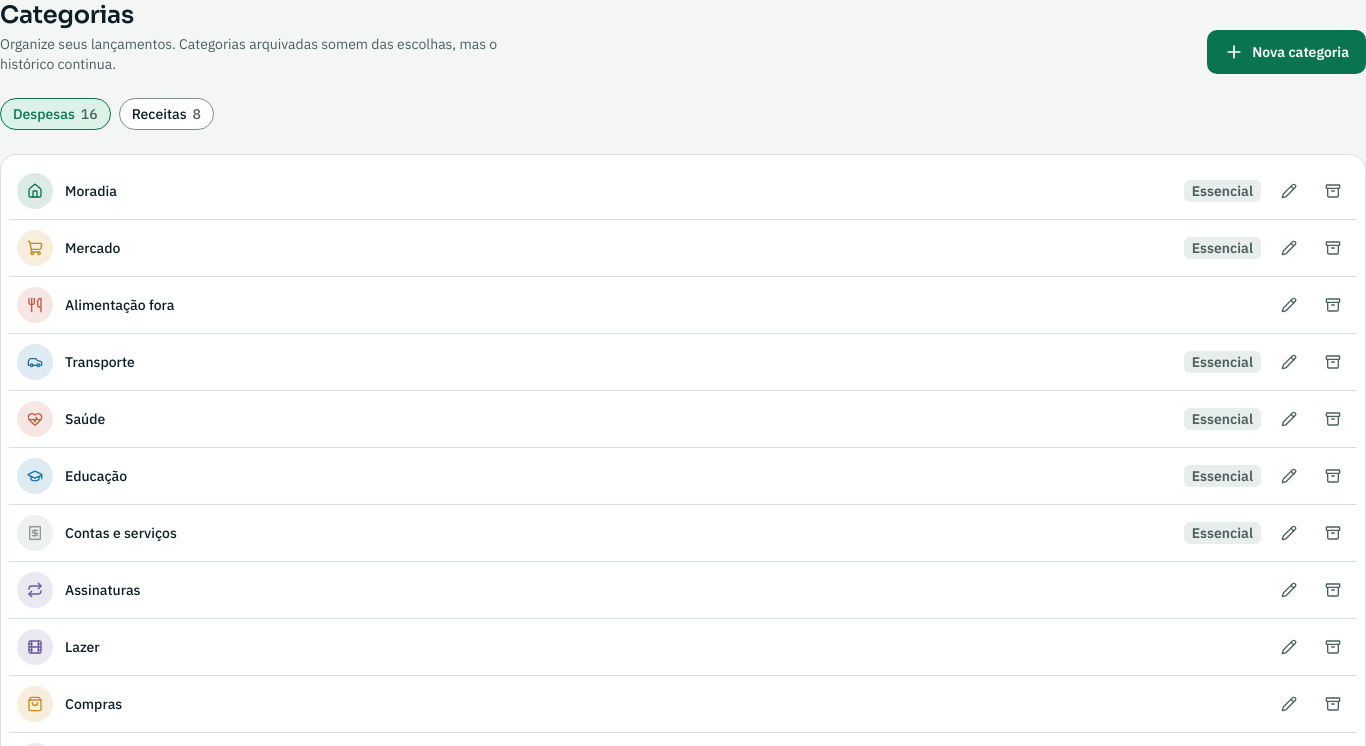
Test case: Categorias › mostra as 16 categorias padrão de despesa e as 8 de receita
Expected: the text "Moradia" is shown, top-left (65, 182), bottom-right (117, 200)
Click the button "Receitas 8" at (166, 114), box top-left (119, 98), bottom-right (214, 130)
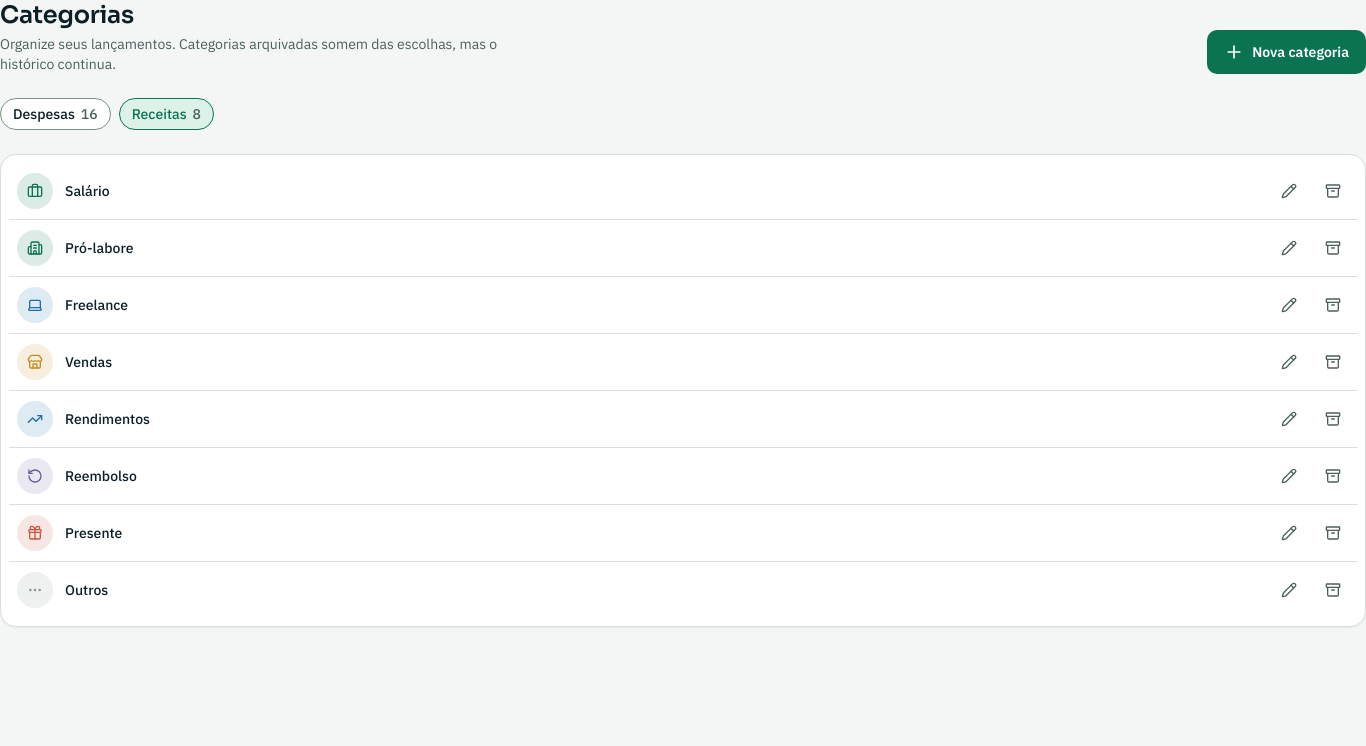
Result: the number of list items is 8
Result: the text "Salário" is shown at top-left (65, 182), bottom-right (110, 200)
